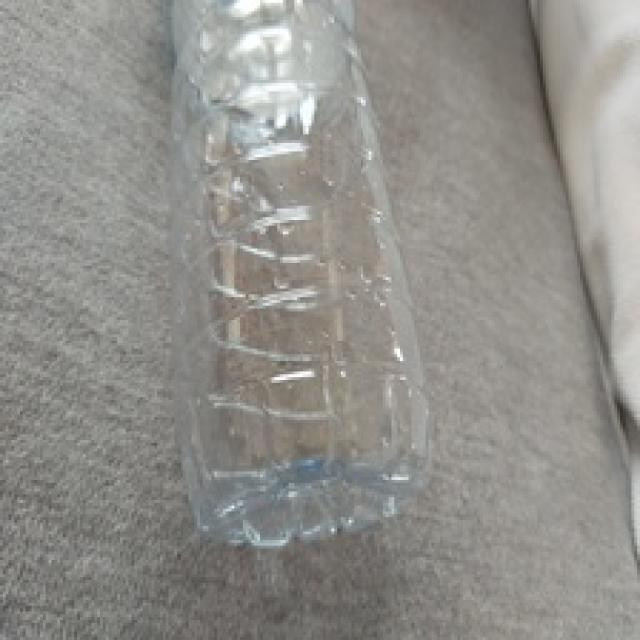Plastic: (164, 0, 442, 544)
